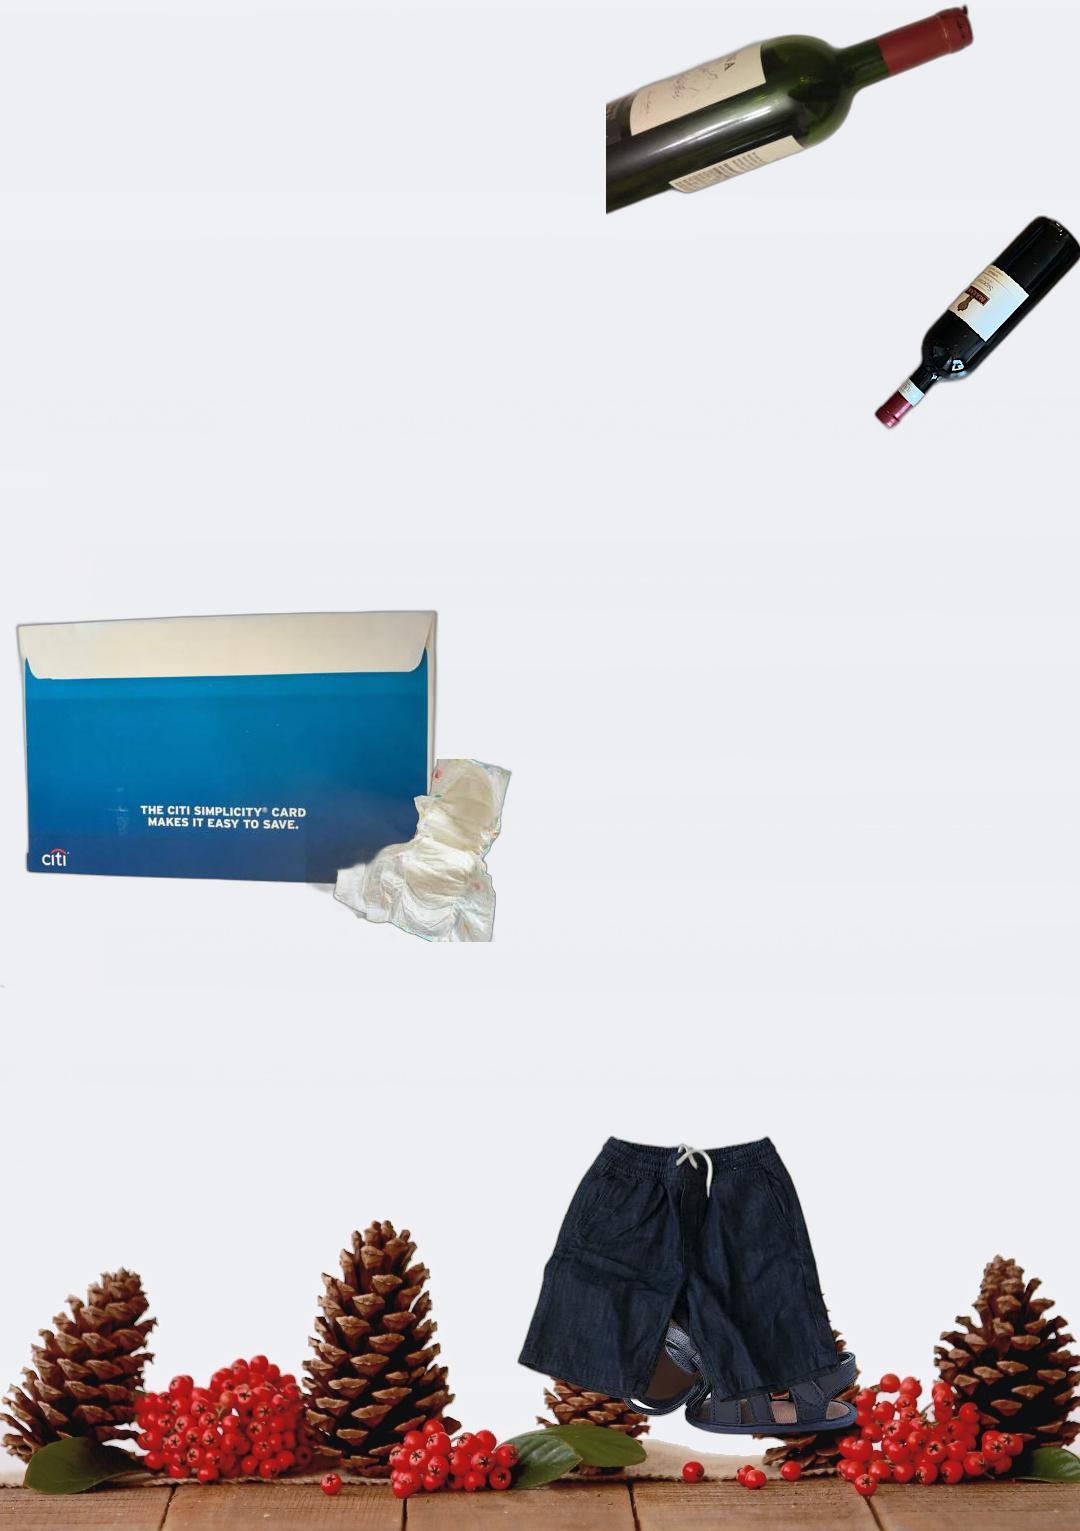clothes: (494, 1131, 844, 1483)
glass: (605, 2, 978, 219), (871, 210, 1080, 434)
paper: (12, 607, 441, 891)
shoes: (618, 1260, 861, 1438)
trash: (306, 758, 515, 942)
